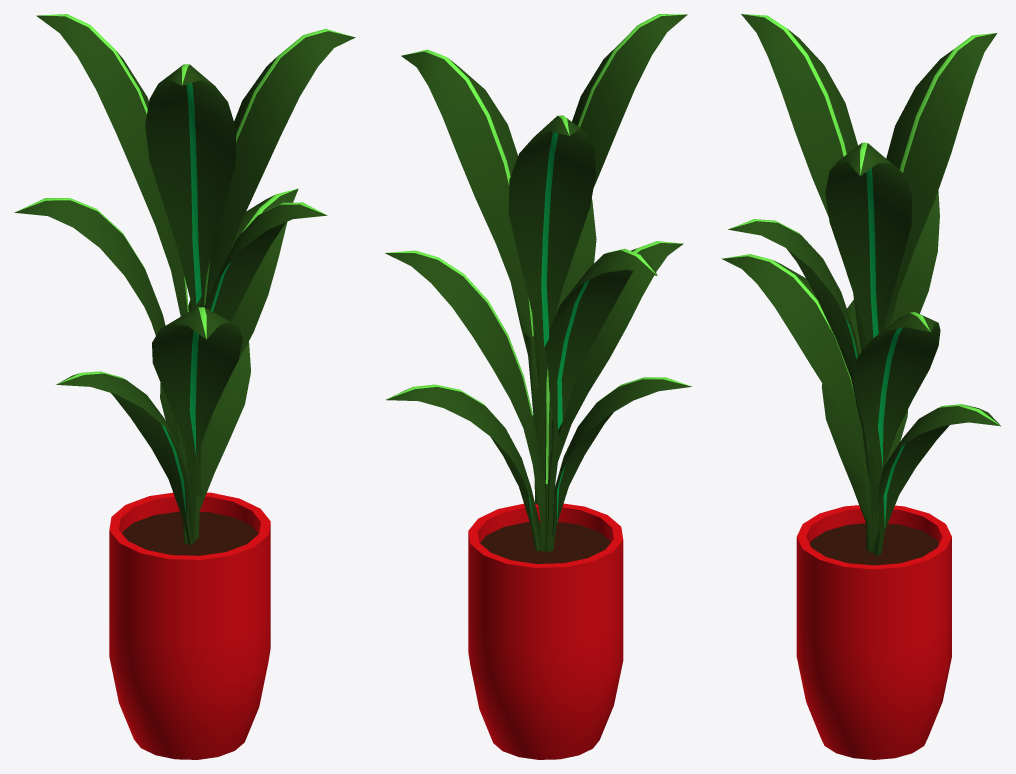
File: Plant_05.fbx
The picture shows the model from 3 angles, left to right: view 1: azimuth 30°, elevation 25°; view 2: azimuth 150°, elevation 25°; view 3: azimuth 270°, elevation 25°; orthographic projection. The views are drawn at different scales.
Parts seen in each view (by area): view 1: Plant05; view 2: Plant05; view 3: Plant05.
Part boxes in pixels (x1,y1,x2,y2): Plant05: [14, 14, 355, 759]; Plant05: [385, 14, 691, 759]; Plant05: [721, 14, 1000, 759].
Size of the model in its own units: 59.99 by 136 by 50.09.
